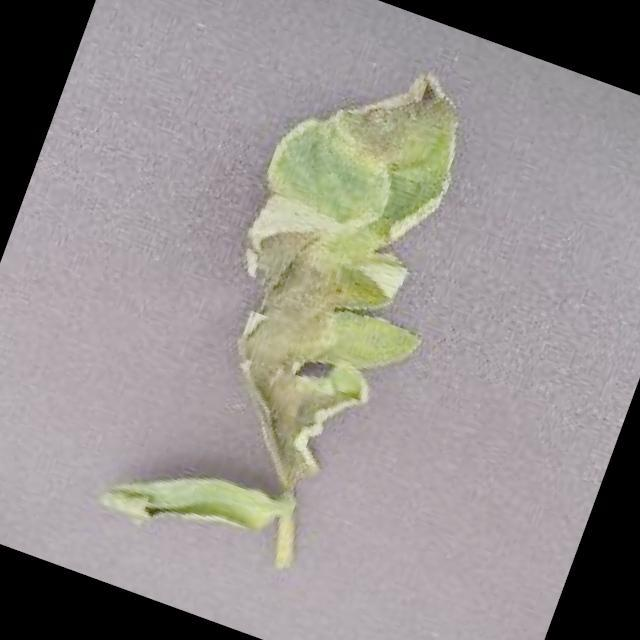Tomato late blight leaf: (167, 34, 518, 518), (94, 440, 284, 570)
